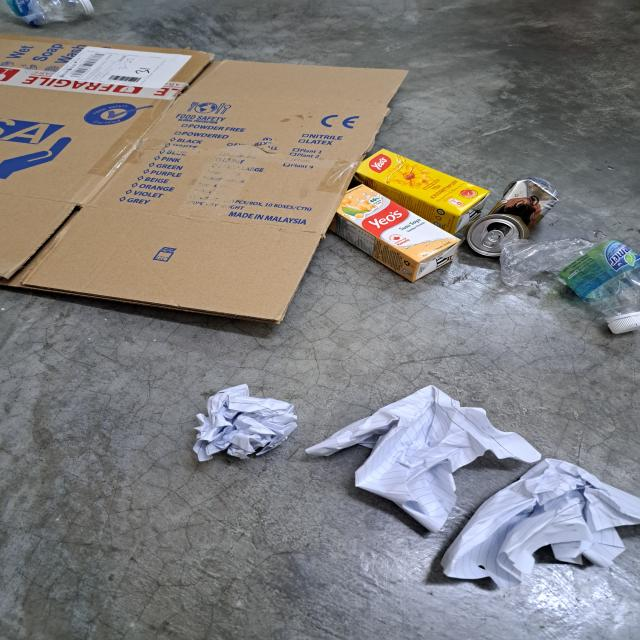can: (470, 175, 556, 256)
cardboard: (0, 31, 409, 321)
drink carton: (331, 180, 461, 283), (355, 147, 493, 233)
paper: (301, 383, 544, 537), (441, 455, 640, 587), (192, 380, 298, 464)
plastic bottle: (497, 236, 640, 336), (0, 0, 101, 29)
plastic bottle cap: (604, 309, 640, 335), (478, 230, 508, 258), (74, 0, 97, 25)
